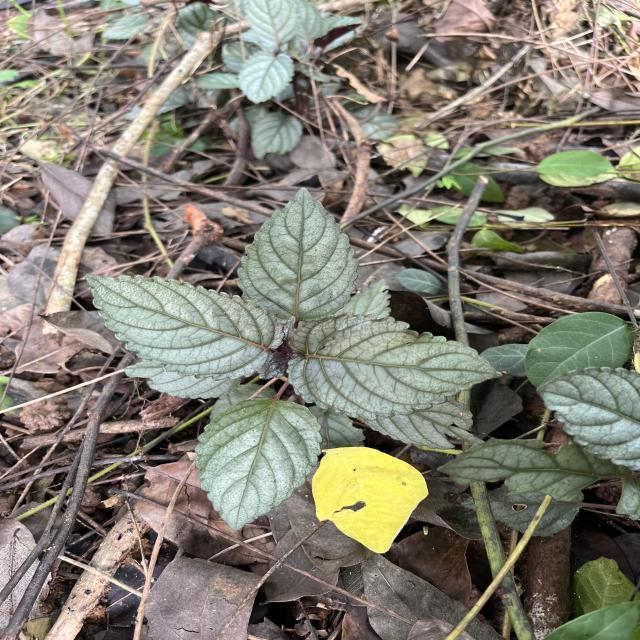Hemigraphis colorata: (284, 310, 504, 422), (82, 272, 286, 382), (192, 395, 324, 532), (235, 185, 362, 320), (534, 364, 640, 472)
